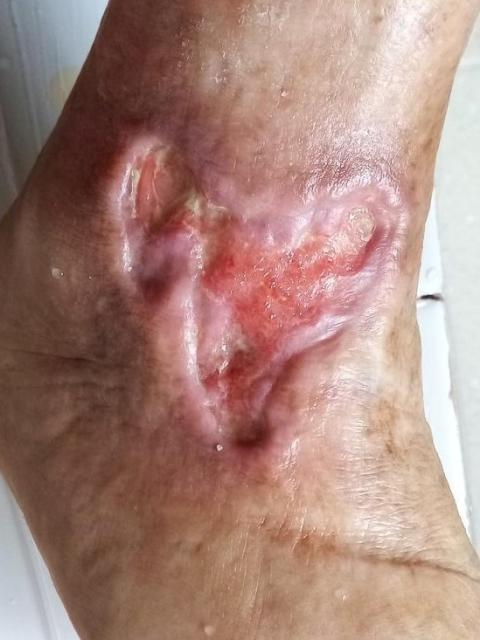wound: (124, 147, 384, 447)
